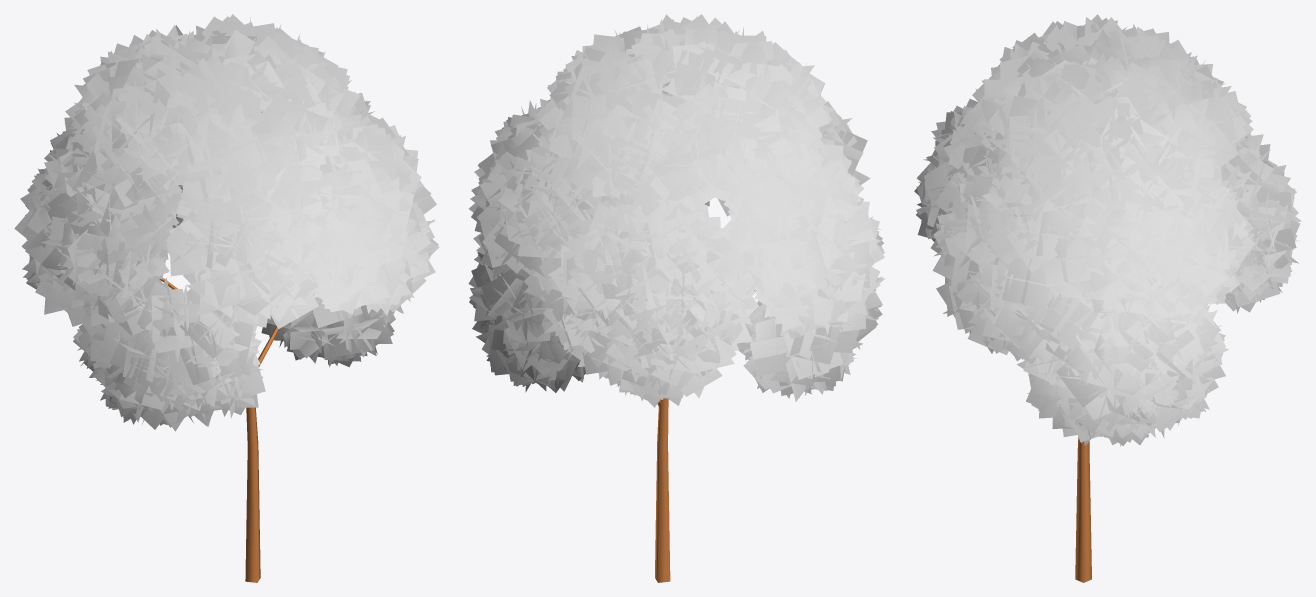
3 views of the same model, side by side, from view 1: azimuth 30°, elevation 25°; view 2: azimuth 150°, elevation 25°; view 3: azimuth 270°, elevation 25° (orthographic). The views are drawn at different scales.
Visible parts, largest first — view 1: 叶子们, 树干; view 2: 叶子们, 树干; view 3: 叶子们, 树干.
Boxes of the visible parts, <box> form: 叶子们: <box>14,14,439,431</box>; 树干: <box>131,112,279,582</box>; 叶子们: <box>468,14,884,407</box>; 树干: <box>655,290,755,582</box>; 叶子们: <box>914,14,1301,446</box>; 树干: <box>995,171,1091,582</box>.
Size of the model in its own units: 493 by 695 by 463.
